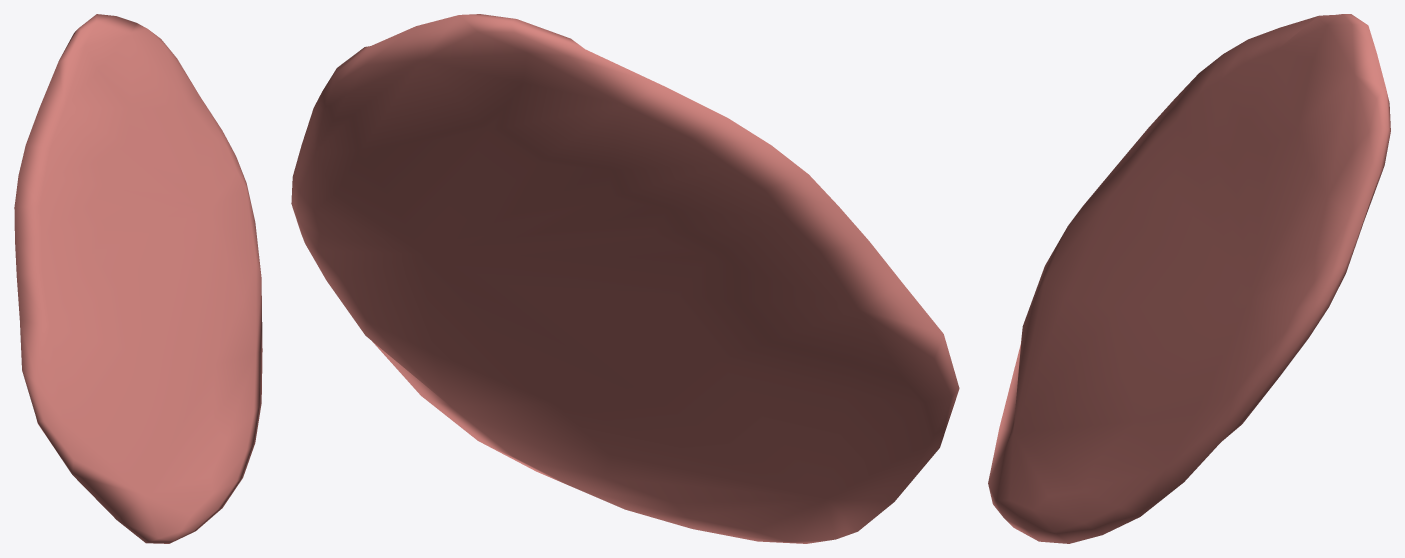
3 views of the same model, side by side, from view 1: azimuth 30°, elevation 25°; view 2: azimuth 150°, elevation 25°; view 3: azimuth 270°, elevation 25° (orthographic). The views are drawn at different scales.
Parts seen in each view (by area): view 1: ZA_43cc66ef2042bfcb; view 2: ZA_43cc66ef2042bfcb; view 3: ZA_43cc66ef2042bfcb.
Boxes of the visible parts, left/top/right/bottom form: ZA_43cc66ef2042bfcb: left=14, top=14, right=262, bottom=543; ZA_43cc66ef2042bfcb: left=291, top=14, right=959, bottom=543; ZA_43cc66ef2042bfcb: left=988, top=14, right=1390, bottom=543.
Bounding box in the file's own units: 0.00839 × 0.0107 × 0.00739.
